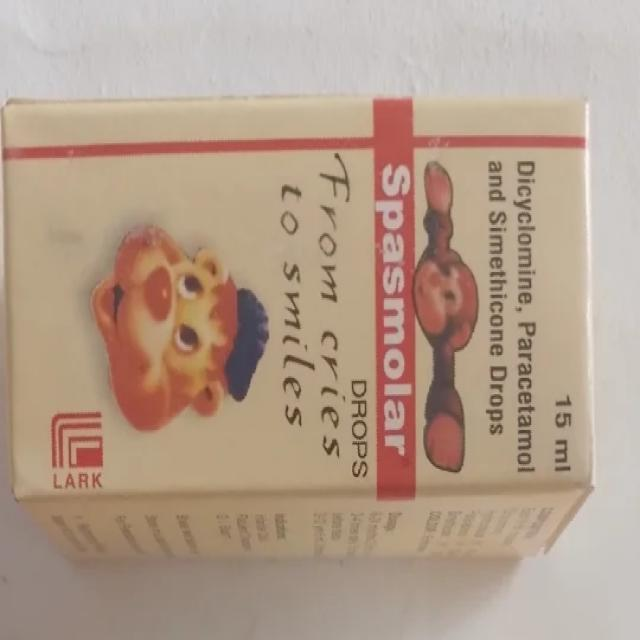drug-name: (374, 155, 414, 457)
